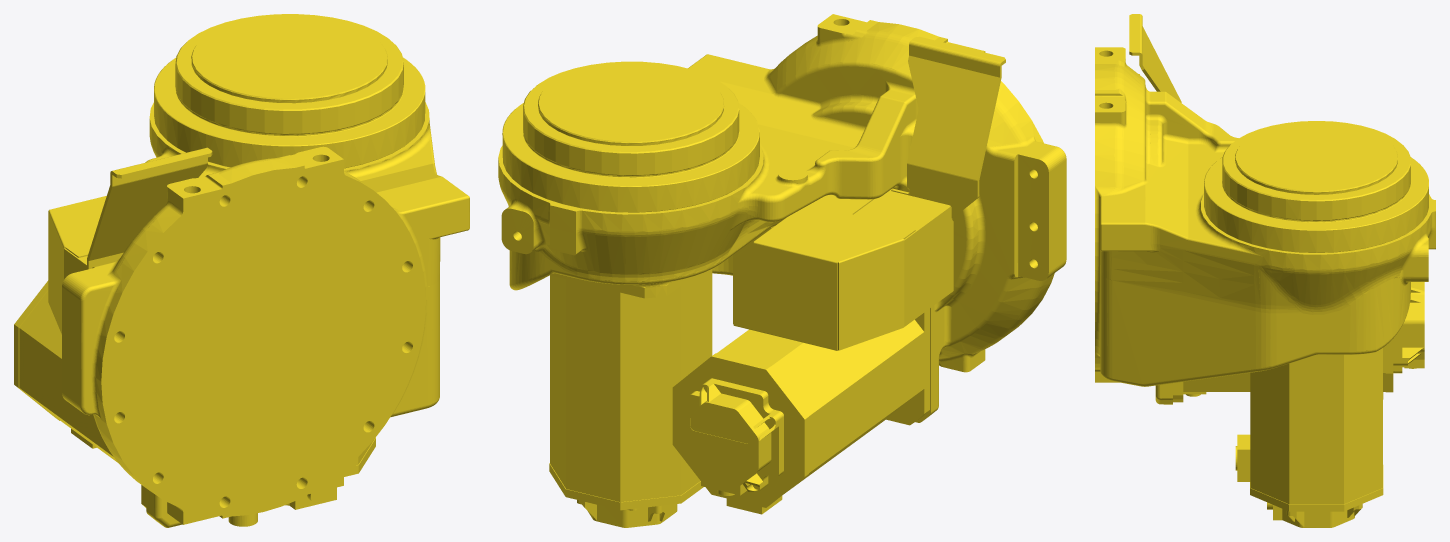
Rendered from FanucM20Link1.dae.
3 renders of one model, left to right at view 1: azimuth 30°, elevation 25°; view 2: azimuth 150°, elevation 25°; view 3: azimuth 270°, elevation 25°, orthographic. The views are drawn at different scales.
Parts seen in each view (by area): view 1: FanucM20Link1; view 2: FanucM20Link1; view 3: FanucM20Link1.
Boxes of the visible parts, x1=… form: FanucM20Link1: x1=14, y1=14, x2=469, y2=527; FanucM20Link1: x1=498, y1=14, x2=1066, y2=527; FanucM20Link1: x1=1095, y1=14, x2=1435, y2=527.
Size of the model in its own units: 0.428 by 0.3344 by 0.4146.
